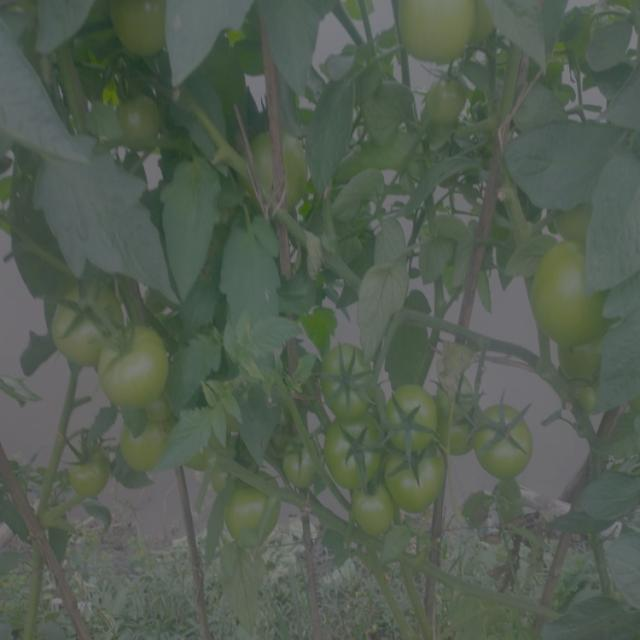tomato: (530, 239, 616, 345), (390, 1, 488, 66), (104, 324, 172, 404), (252, 127, 317, 209), (46, 283, 119, 355), (479, 399, 541, 480), (222, 473, 285, 549), (61, 433, 119, 508), (384, 372, 441, 448), (322, 340, 374, 423), (105, 1, 178, 60), (325, 419, 380, 488), (390, 449, 447, 510), (112, 90, 169, 149), (116, 417, 175, 472), (424, 68, 475, 130), (347, 475, 400, 534), (279, 432, 320, 489), (446, 391, 480, 447)
